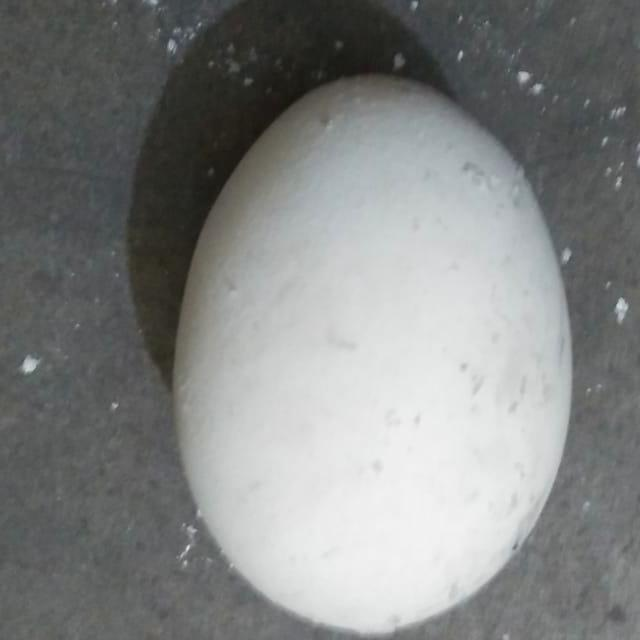egg: (166, 69, 575, 637)
